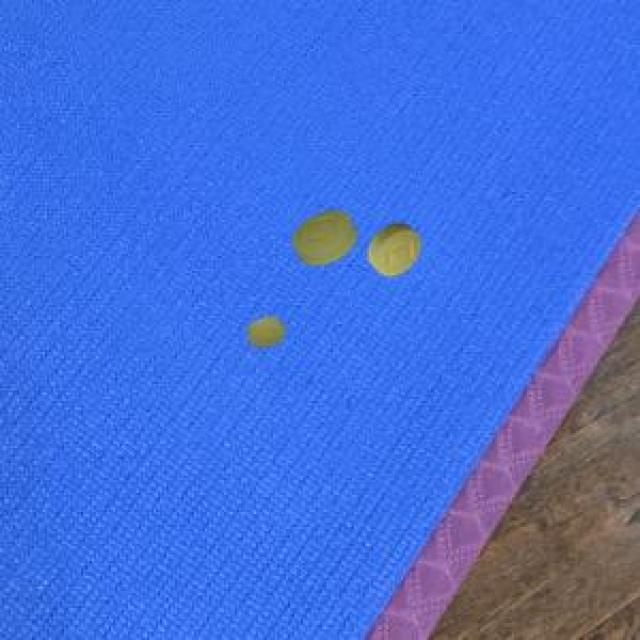Decolgen: (291, 200, 428, 288), (232, 308, 291, 358)
